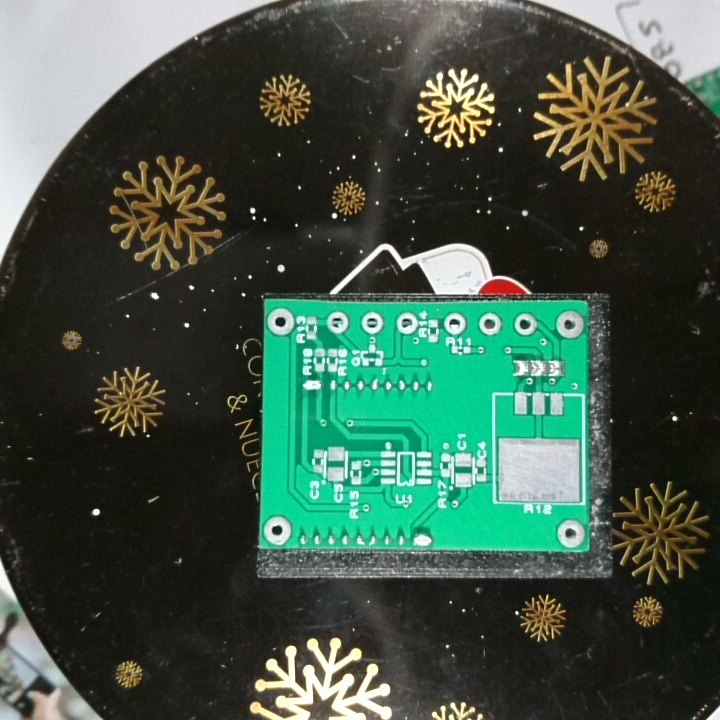F: (261, 514, 294, 546), (266, 306, 297, 338), (555, 517, 586, 549), (553, 309, 583, 341), (510, 310, 539, 338), (359, 309, 385, 336), (476, 312, 502, 337), (442, 312, 467, 337), (394, 311, 416, 336), (325, 310, 348, 333)
P: (411, 531, 434, 549), (300, 378, 322, 394)
